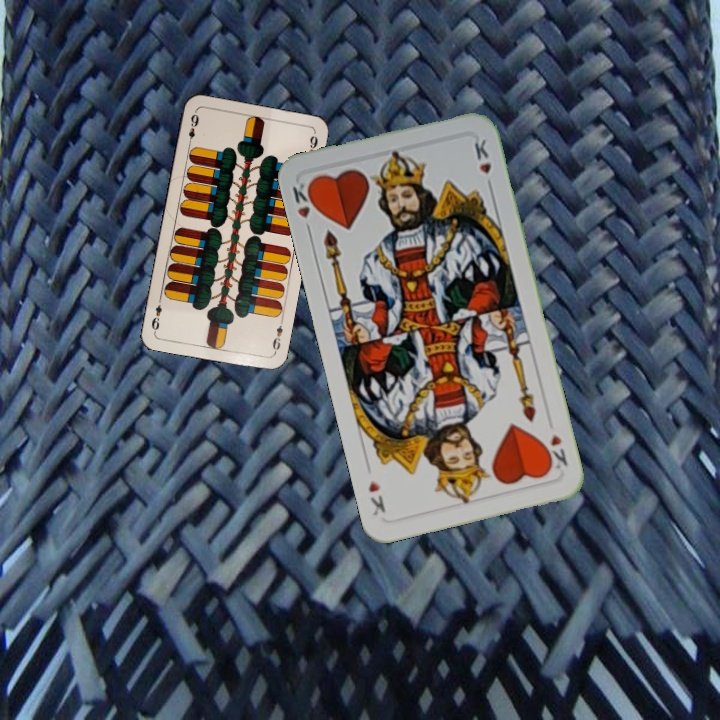E9: (268, 316, 285, 356), (184, 110, 201, 148)
HK: (288, 178, 320, 221), (540, 430, 570, 472)
